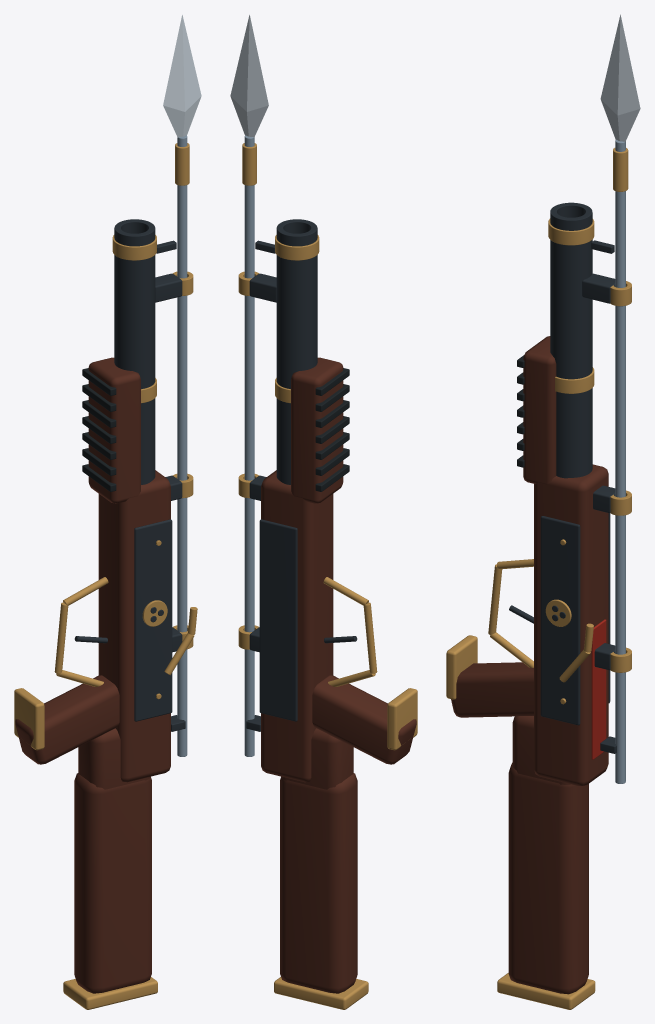
File: Yari_Spear_Launcher.fbx
3 views of the same model, side by side, from view 1: azimuth 30°, elevation 25°; view 2: azimuth 150°, elevation 25°; view 3: azimuth 330°, elevation 25° (orthographic). The views are drawn at different scales.
Visible parts, largest first — view 1: Yari_Spear_Launcher; view 2: Yari_Spear_Launcher; view 3: Yari_Spear_Launcher.
Part boxes in pixels (x1=…): Yari_Spear_Launcher: x1=14, y1=15, x2=201, y2=1009; Yari_Spear_Launcher: x1=230, y1=15, x2=417, y2=1009; Yari_Spear_Launcher: x1=446, y1=14, x2=640, y2=1009.
Size of the model in its own units: 22.31 by 114 by 8.1.
